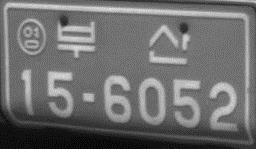-: (79, 89, 100, 105)
0: (138, 76, 167, 127)
1: (19, 67, 38, 118)
2: (207, 80, 240, 132)
5: (45, 69, 76, 119), (172, 77, 202, 128)
6: (102, 72, 131, 123)
부산_D: (55, 16, 192, 66)
영: (16, 17, 47, 56)
